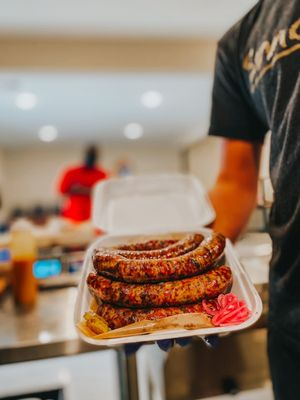pizza: (188, 1, 300, 397), (52, 145, 109, 225)
